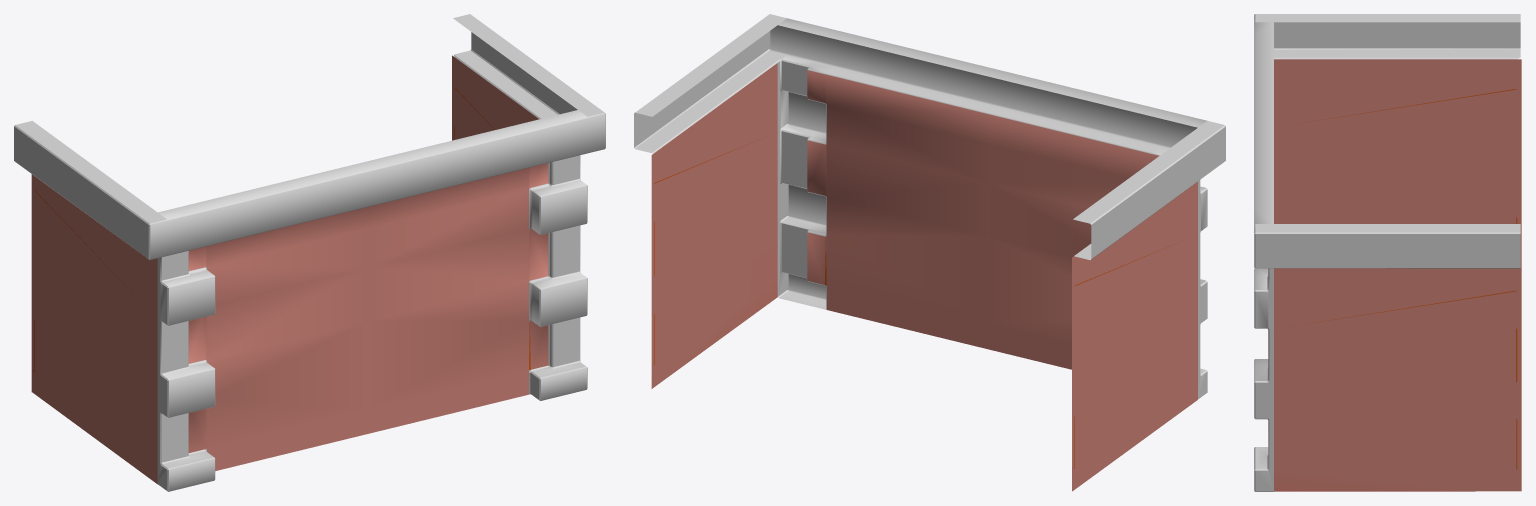
Rendered from wallcolor 1.fbx.
The picture shows the model from 3 angles, left to right: view 1: azimuth 30°, elevation 25°; view 2: azimuth 150°, elevation 25°; view 3: azimuth 270°, elevation 25°; orthographic projection.
Parts seen in each view (by area): view 1: Plane001; view 2: Plane001; view 3: Plane001.
Part boxes in pixels (x1,y1,x2,y2): Plane001: (14, 14, 605, 491); Plane001: (634, 14, 1225, 491); Plane001: (1254, 14, 1521, 491).
Bounding box in the file's own units: 5181 × 2954 × 2670.
